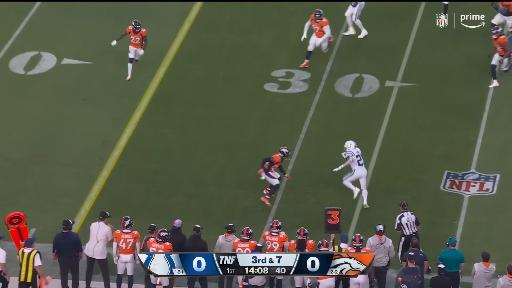Helmet: (156, 229, 170, 243), (121, 216, 133, 229), (240, 227, 253, 239), (270, 220, 282, 233), (278, 147, 290, 159), (296, 227, 308, 239), (352, 234, 364, 246), (344, 140, 357, 151), (491, 26, 502, 38), (313, 9, 323, 22), (318, 240, 329, 251), (132, 19, 141, 31)
Jersey: (113, 231, 140, 254), (263, 232, 288, 252), (345, 148, 365, 170), (310, 15, 328, 38), (127, 27, 146, 48), (147, 238, 173, 252), (492, 35, 508, 56), (234, 239, 257, 253), (264, 154, 282, 171), (499, 2, 511, 16), (289, 240, 297, 252), (361, 248, 371, 253)
Player: (334, 141, 368, 208), (112, 20, 147, 80), (113, 216, 140, 287), (300, 9, 333, 67), (259, 147, 290, 206), (490, 26, 510, 87), (263, 220, 289, 252), (344, 2, 367, 38), (289, 228, 315, 252), (234, 227, 257, 253), (491, 2, 511, 31), (148, 229, 173, 252), (346, 234, 371, 253), (318, 235, 334, 252), (442, 2, 448, 14)
